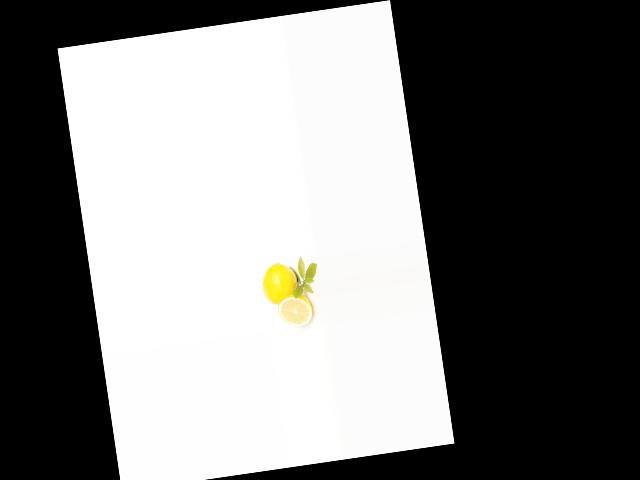lemon: (257, 256, 299, 306)
